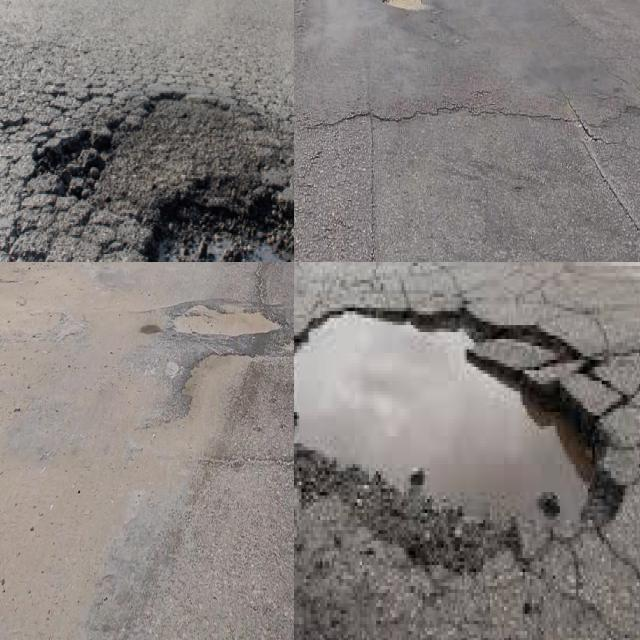Pothole: (294, 304, 616, 555), (140, 184, 294, 262), (172, 295, 284, 339), (383, 0, 426, 12)
